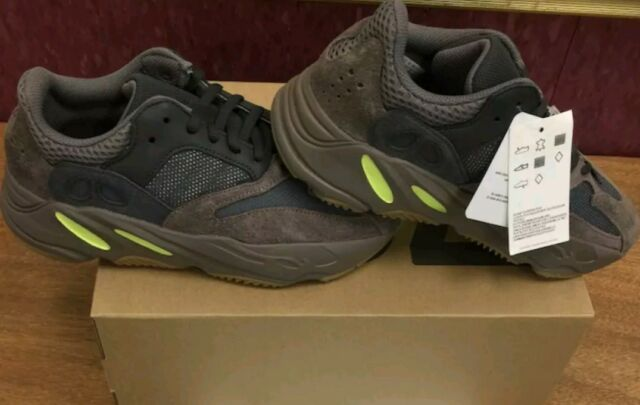adidas Yeezy 700 Mauve: (267, 6, 640, 284), (4, 27, 403, 286)
